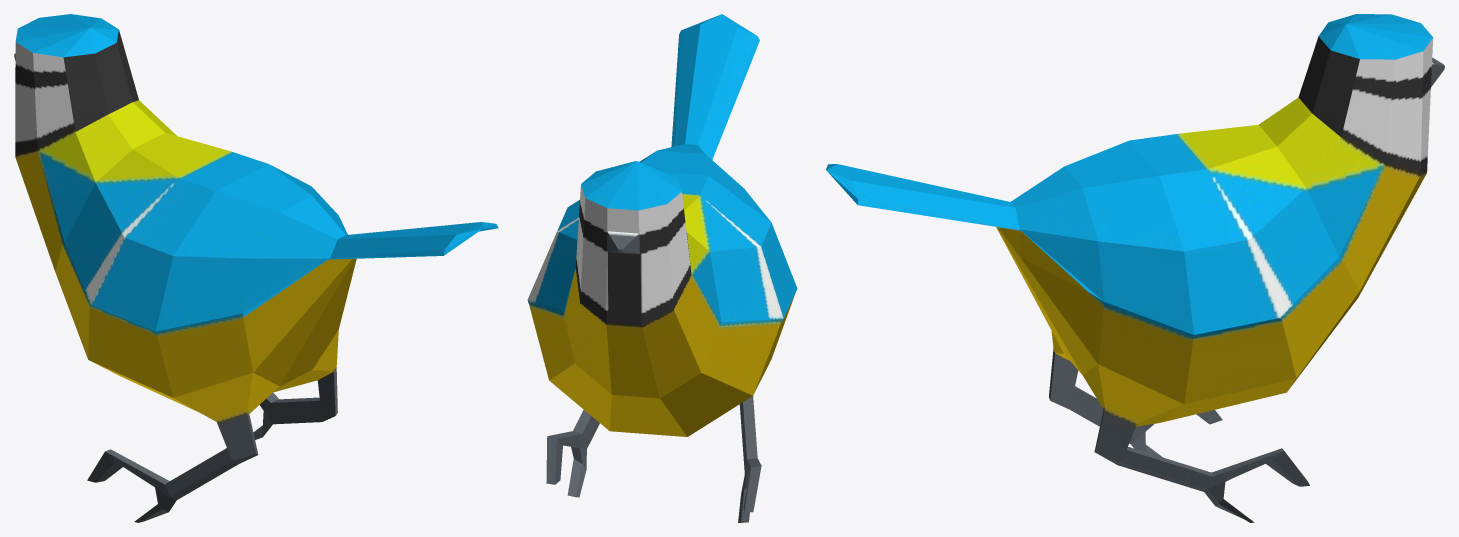
The model's file is bird.dae.
3 views of the same model, side by side, from view 1: azimuth 30°, elevation 25°; view 2: azimuth 150°, elevation 25°; view 3: azimuth 270°, elevation 25° (orthographic). The views are drawn at different scales.
Parts seen in each view (by area): view 1: bird.1; view 2: bird.1; view 3: bird.1.
Part boxes in pixels (x1,y1,x2,y2): bird.1: (14,14,498,522); bird.1: (527,14,797,522); bird.1: (826,14,1444,522).
Bounding box in the file's own units: 14.57 × 23.09 × 28.05.
1 material, 1 textured.
